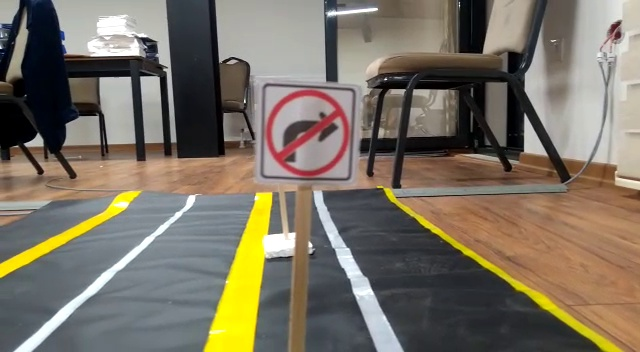saga_donulmez: (258, 83, 353, 180)
